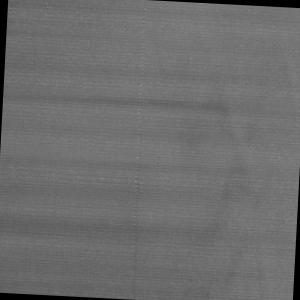Wrinkle: (1, 145, 289, 272), (3, 60, 294, 130)
